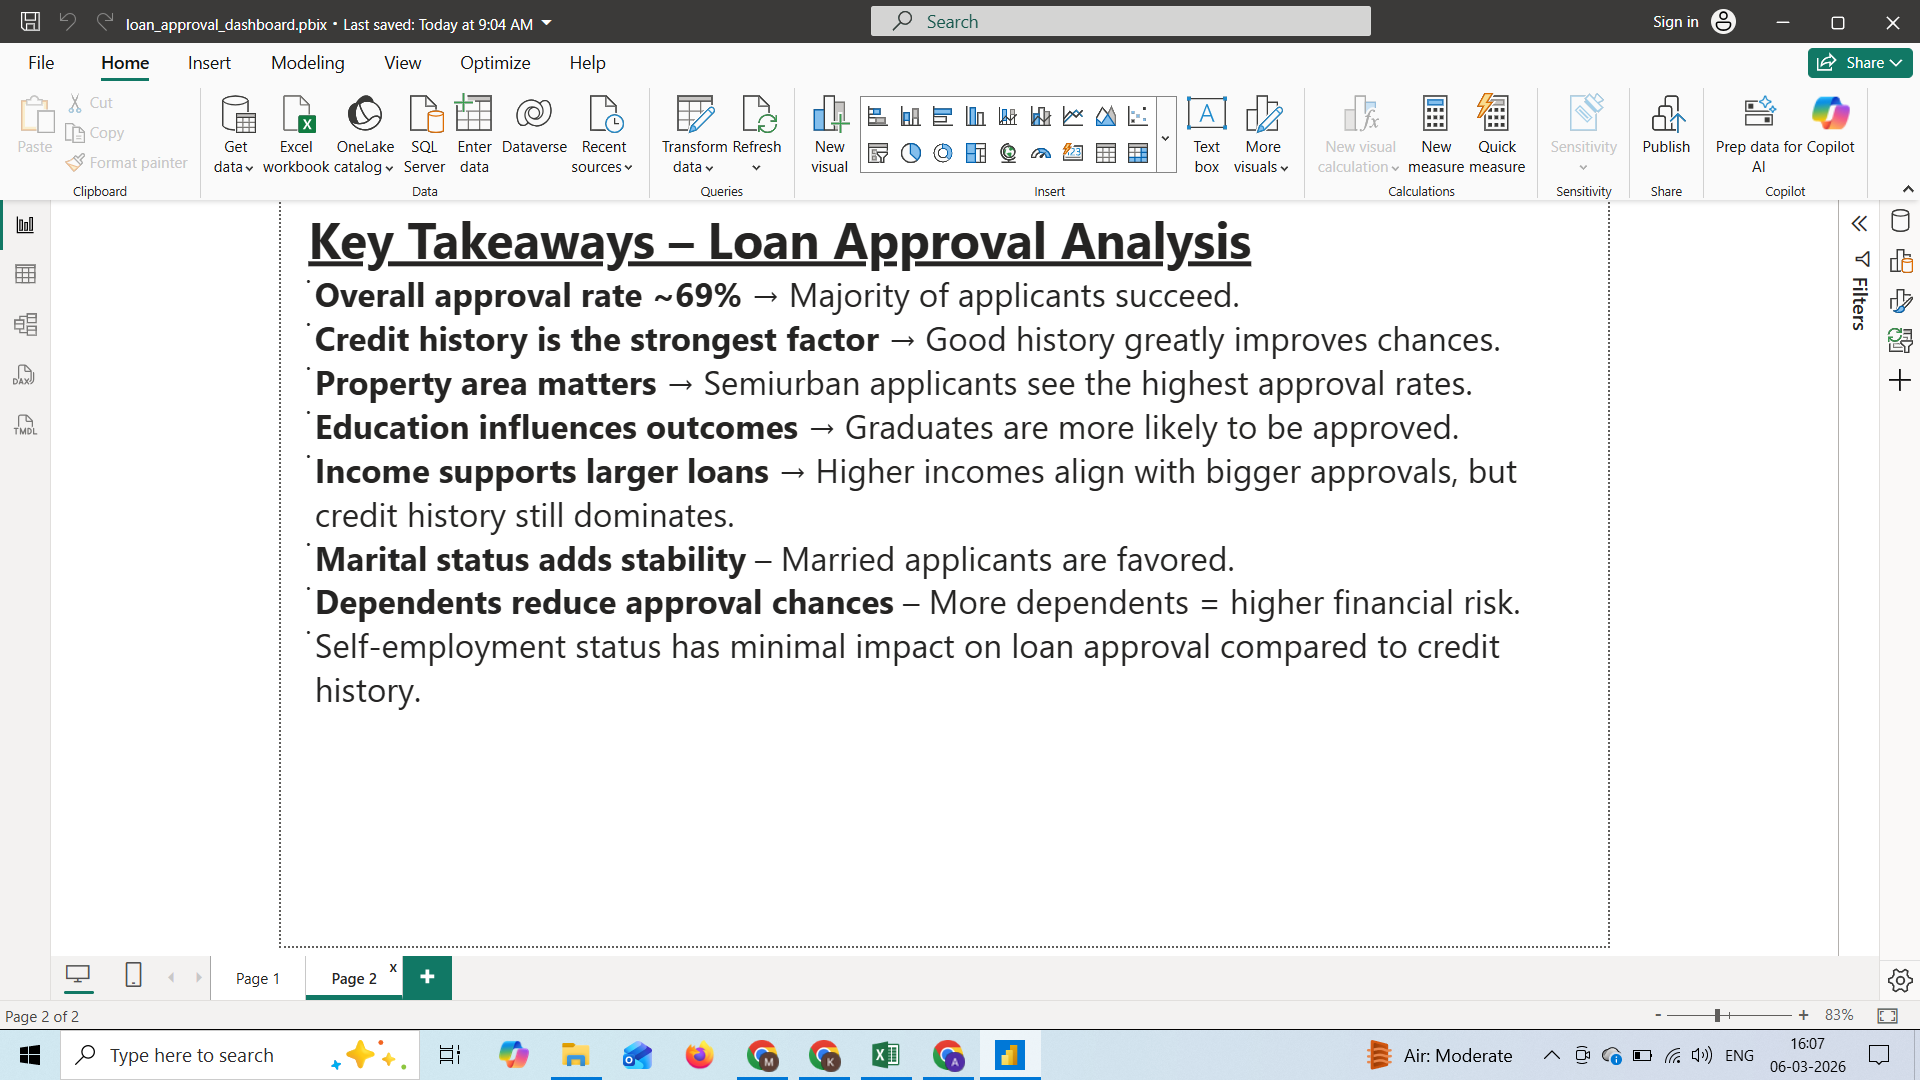

What the dashboard file says about the page in this screenshot:
{"tool":"powerbi","page":{"name":"Page 2","canvas":[1280,720],"ordinal":1},"visuals":[{"type":"textbox","box":[9.7,0,1270.4,720.2],"z":0}]}

Visuals, with their boxes on the page's 1280x720 design canvas (x1, y1, x2, y2). These are canvas units, not pixel positions in the 1920x1080 screenshot, which may show the page scaled, cropped or inside an application window:
textbox: (10, 0, 1280, 720)
